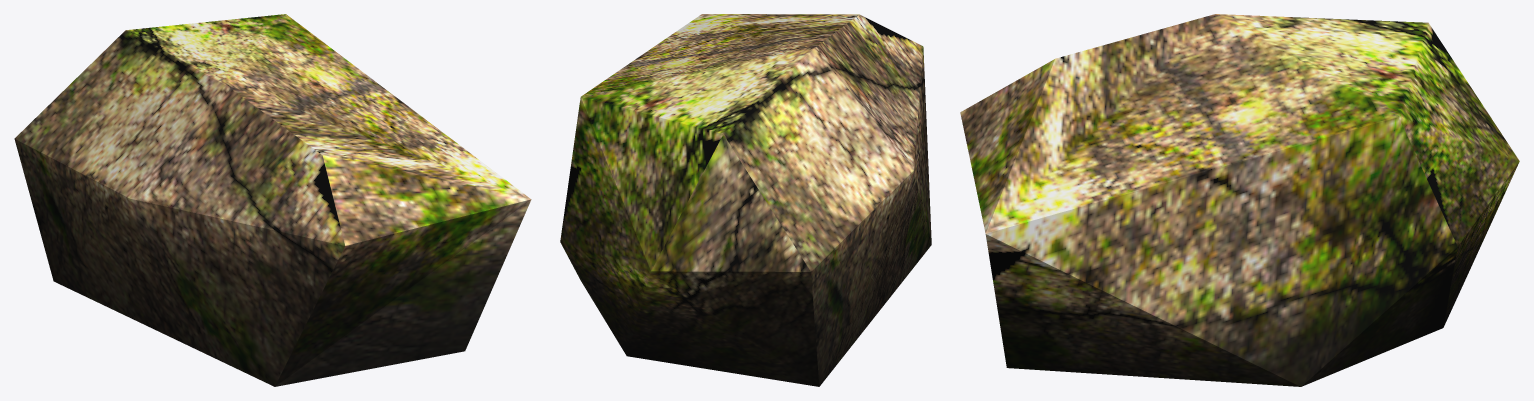
File: rock_012_LOD1.dae
The picture shows the model from 3 angles, left to right: view 1: azimuth 30°, elevation 25°; view 2: azimuth 150°, elevation 25°; view 3: azimuth 270°, elevation 25°; orthographic projection. The views are drawn at different scales.
Visible parts, largest first — view 1: Mesh_Object; view 2: Mesh_Object; view 3: Mesh_Object.
Boxes of the visible parts, box(x1,y1,x2,y2) form: Mesh_Object: box(14, 14, 531, 386); Mesh_Object: box(560, 14, 931, 386); Mesh_Object: box(960, 14, 1519, 386).
Size of the model in its own units: 1.57 by 1.14 by 2.13.
